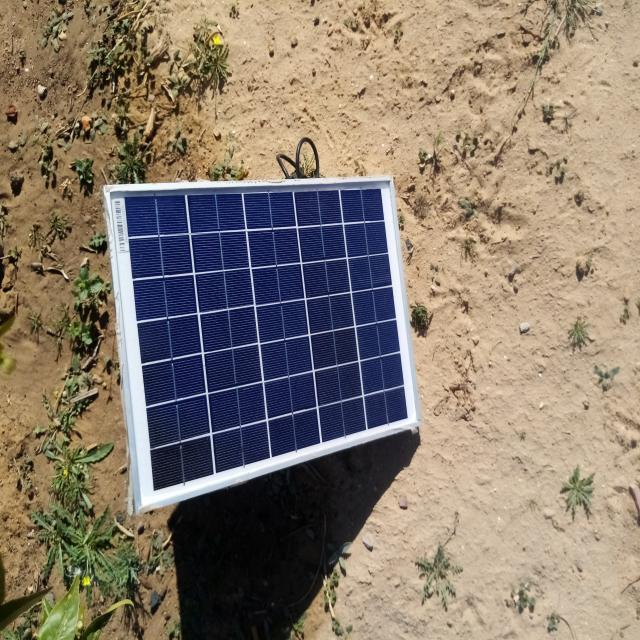no faulty: (108, 181, 418, 509)
